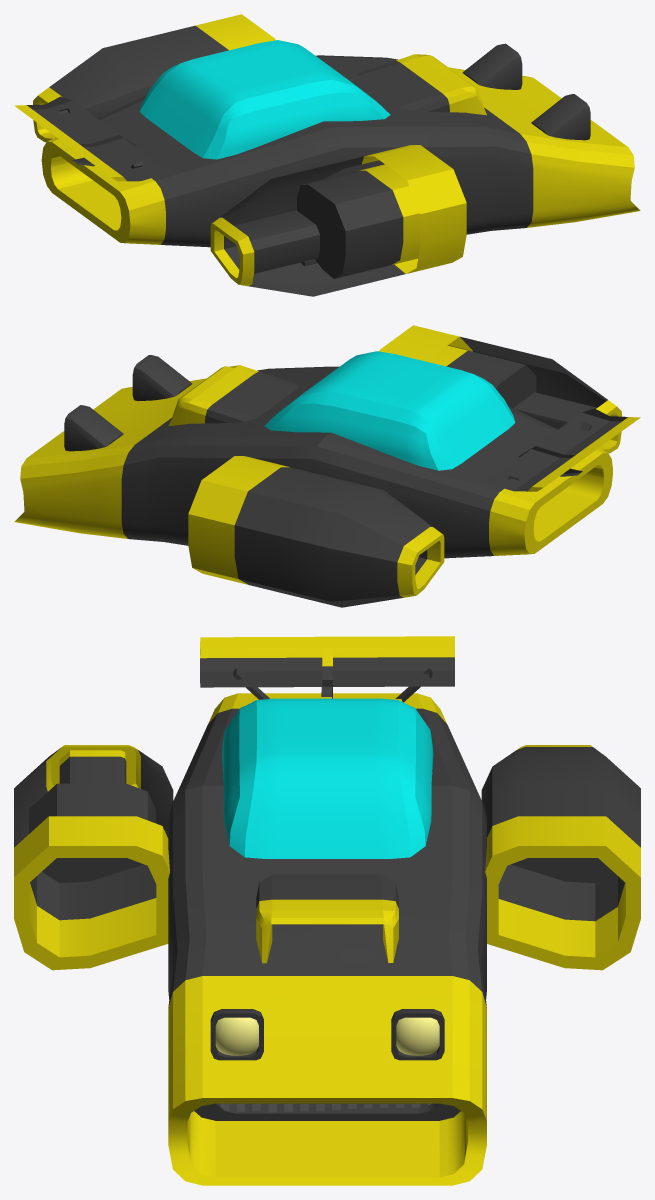
The model's file is RV_RaceShip.fbx.
The picture shows the model from 3 angles, top to bottom: view 1: azimuth 30°, elevation 25°; view 2: azimuth 150°, elevation 25°; view 3: azimuth 270°, elevation 25°; orthographic projection. The views are drawn at different scales.
Parts seen in each view (by area): view 1: RaceShip; view 2: RaceShip; view 3: RaceShip.
Part boxes in pixels (x1,y1,x2,y2): RaceShip: [14, 14, 640, 296]; RaceShip: [14, 325, 640, 607]; RaceShip: [14, 636, 640, 1185].
Bounding box in the file's own units: 1507 × 507 × 1181.
